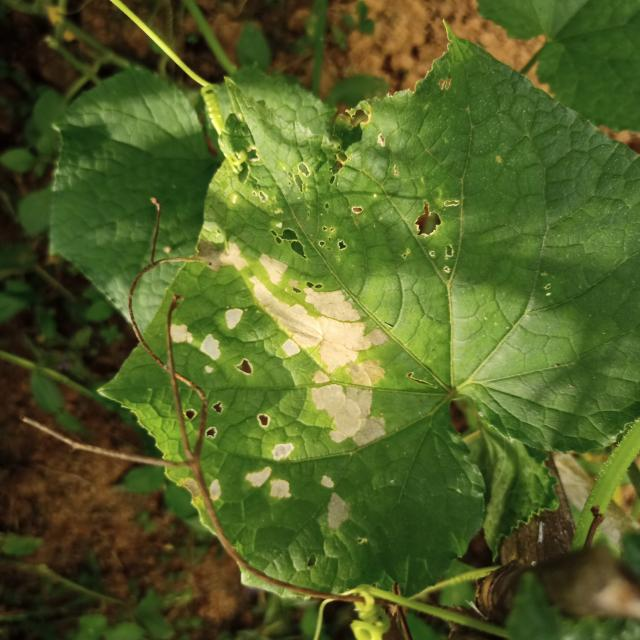disease_cucumber: (167, 242, 389, 530)
